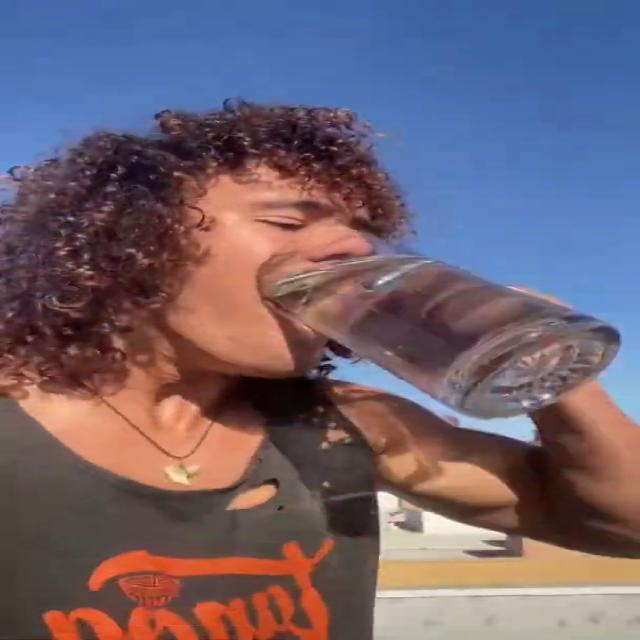Cup: (257, 252, 621, 420)
Hand: (402, 281, 618, 400)
Mouth: (260, 271, 337, 330)
